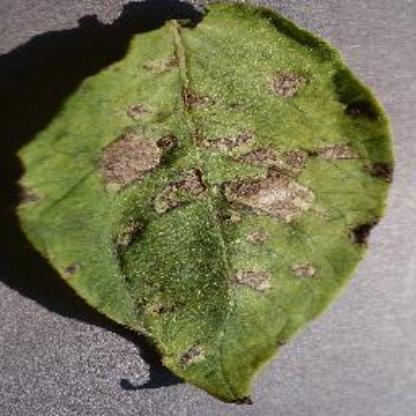Early-Blight: (15, 2, 398, 408)
